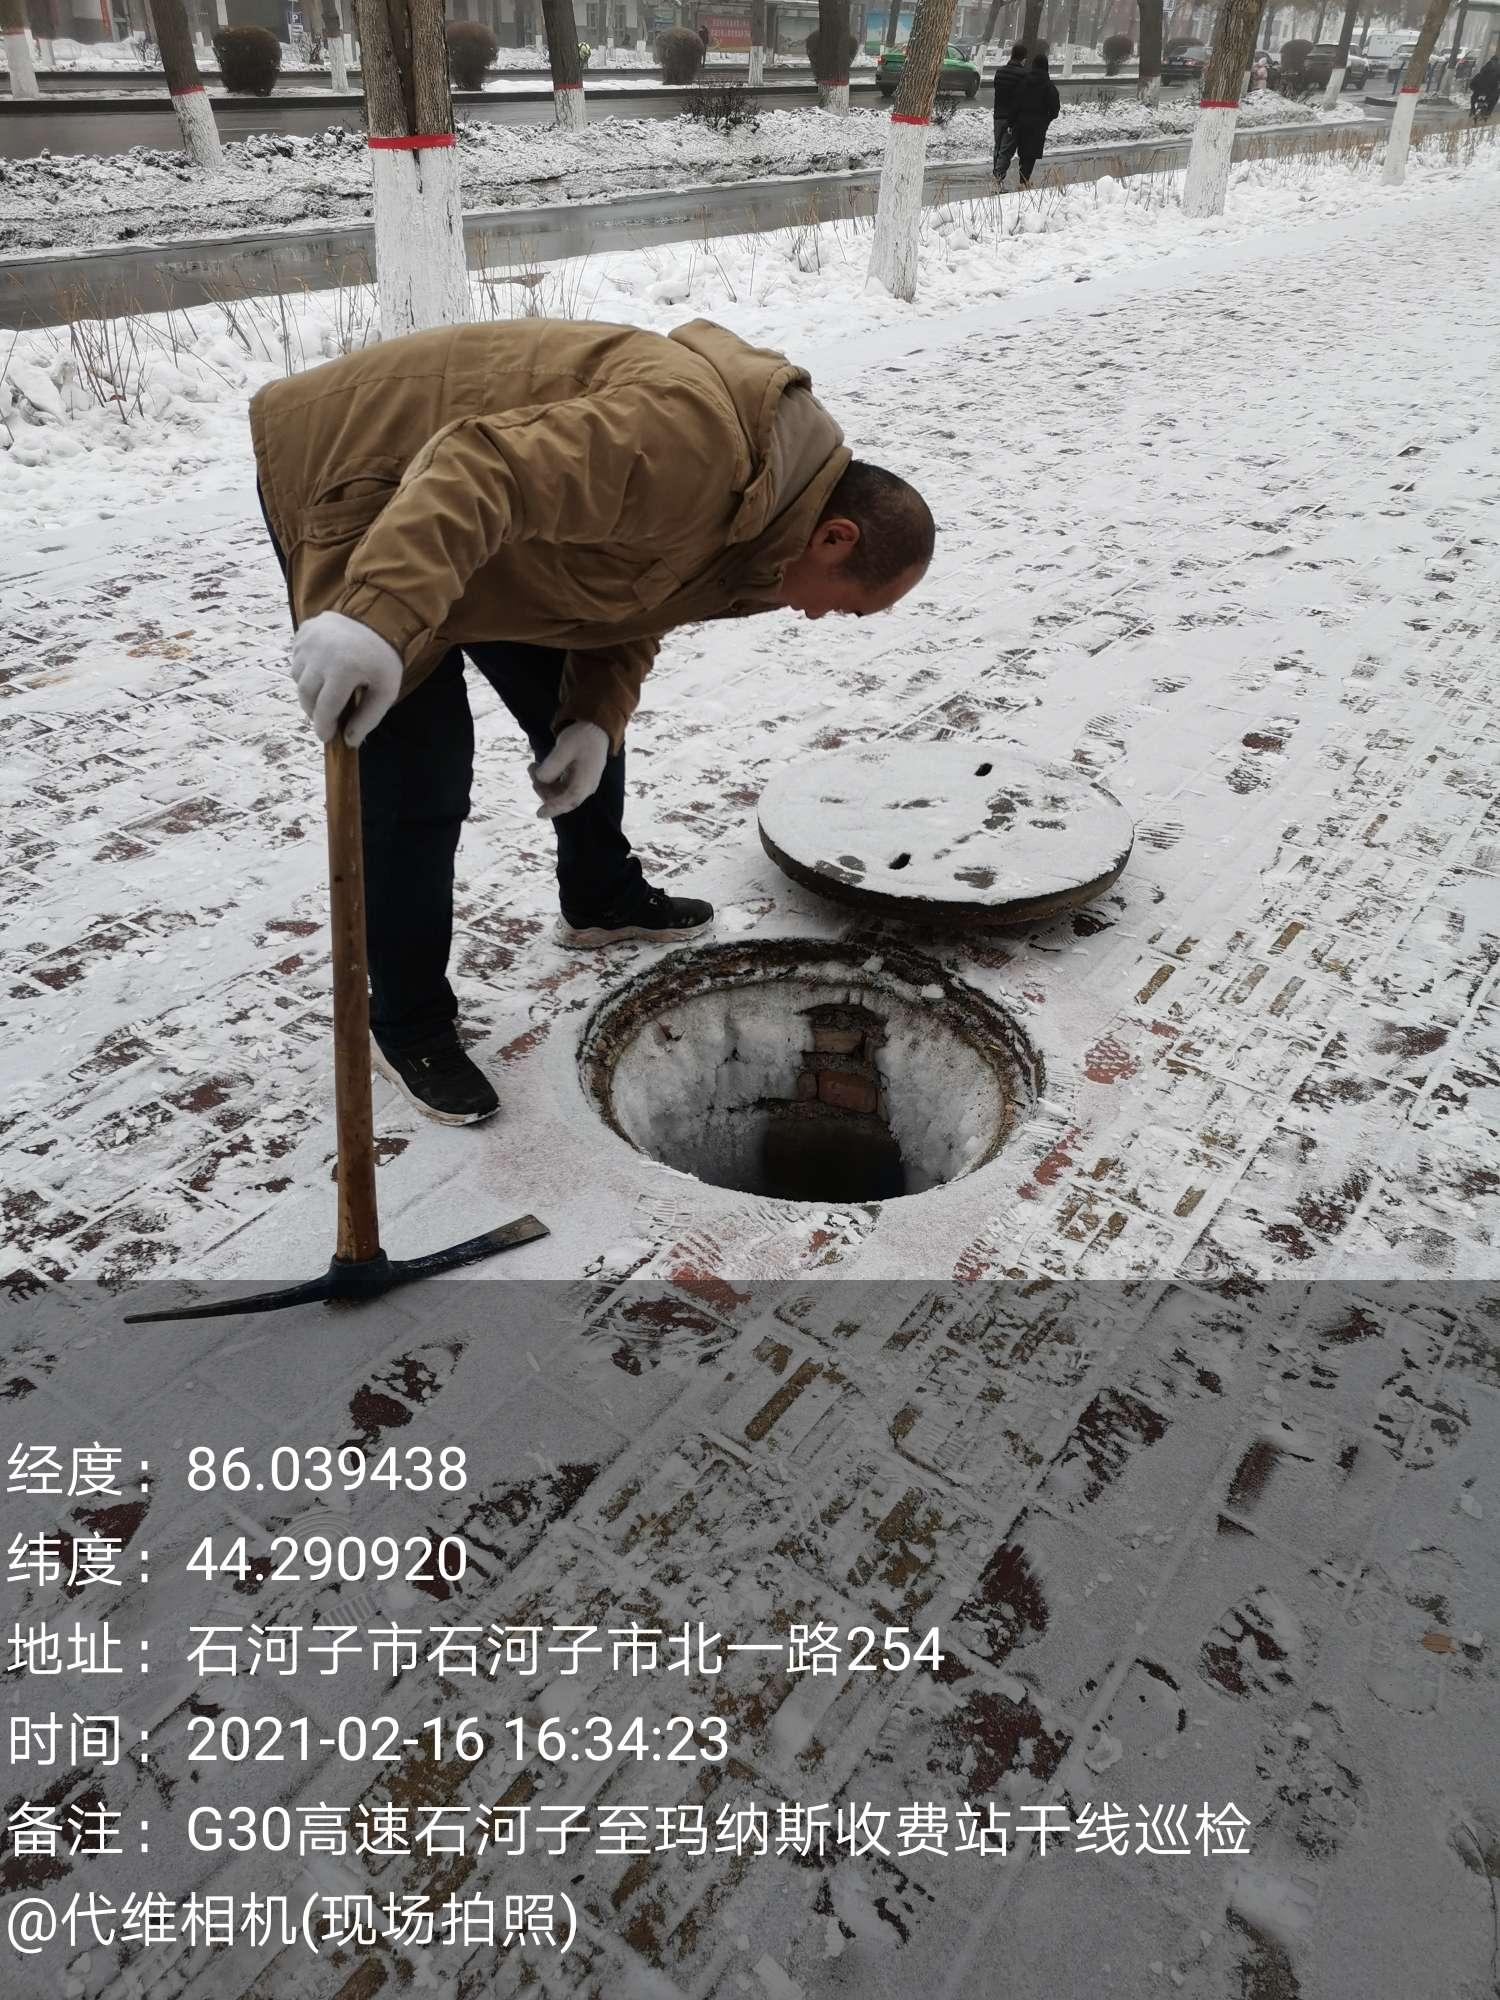wellcover: (570, 674, 1136, 1263)
